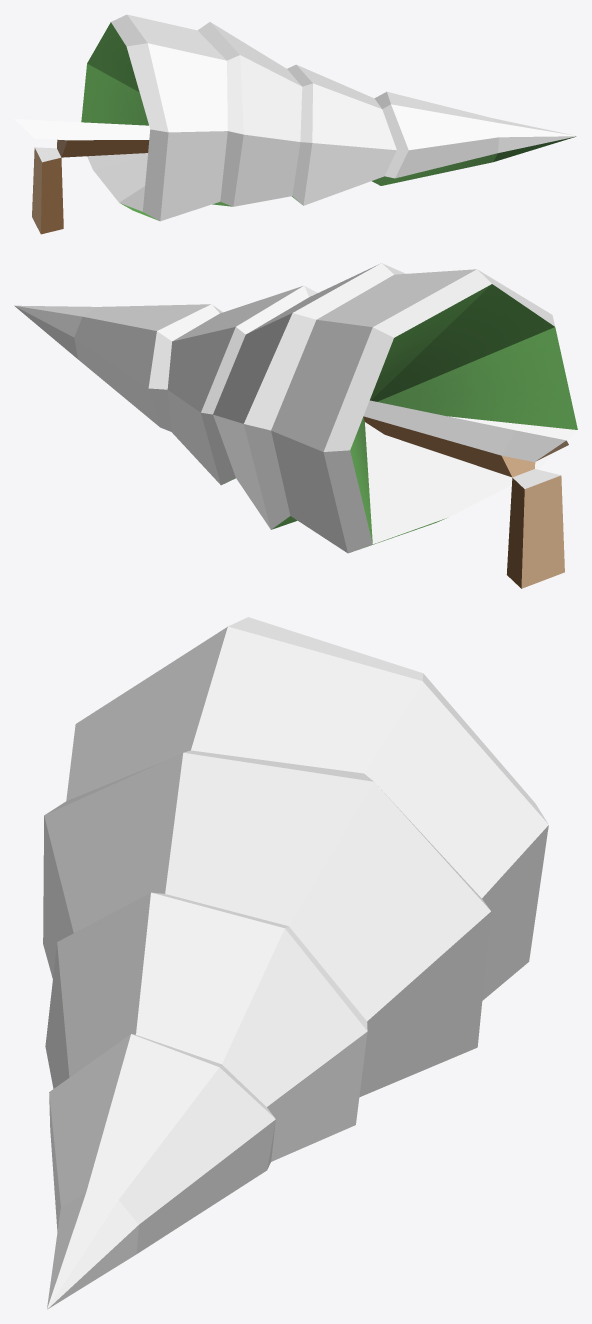
Rendered from Fir_Tree_crk_m_Snow_01_LOD.fbx.
3 renders of one model, top to bottom at view 1: azimuth 30°, elevation 25°; view 2: azimuth 150°, elevation 25°; view 3: azimuth 270°, elevation 25°, orthographic. The views are drawn at different scales.
Visible parts, largest first — view 1: Fir_Tree_crk_m_Snow_01_LOD0; view 2: Fir_Tree_crk_m_Snow_01_LOD0; view 3: Fir_Tree_crk_m_Snow_01_LOD0.
Part boxes in pixels (left/top/right/bottom): Fir_Tree_crk_m_Snow_01_LOD0: left=14, top=14, right=577, bottom=234; Fir_Tree_crk_m_Snow_01_LOD0: left=14, top=263, right=577, bottom=588; Fir_Tree_crk_m_Snow_01_LOD0: left=43, top=617, right=548, bottom=1309.
Size of what is drawn, in the model's own units: 679 by 249 by 307.
